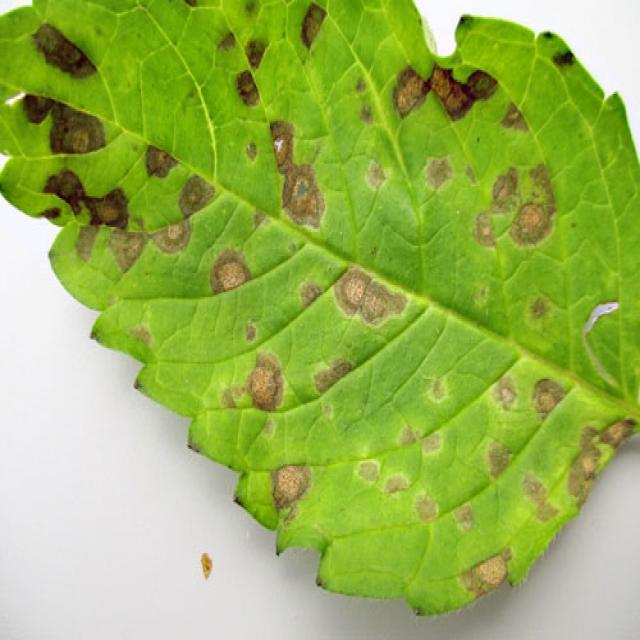Septoria: (23, 0, 638, 607)
